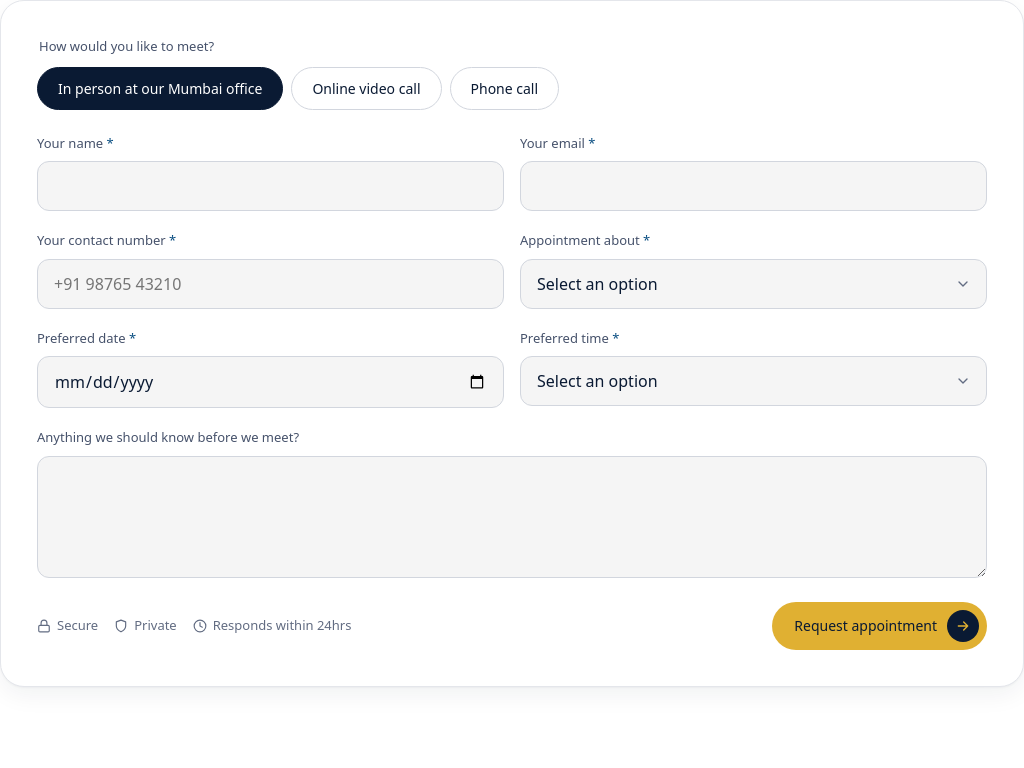
AppointmentForm › lists every required field that is missing and focuses the first
This screenshot has width=1024, height=768.
Click the button "Request appointment Request appointment" at (880, 626), box x1=772 y1=602 x2=987 y2=650
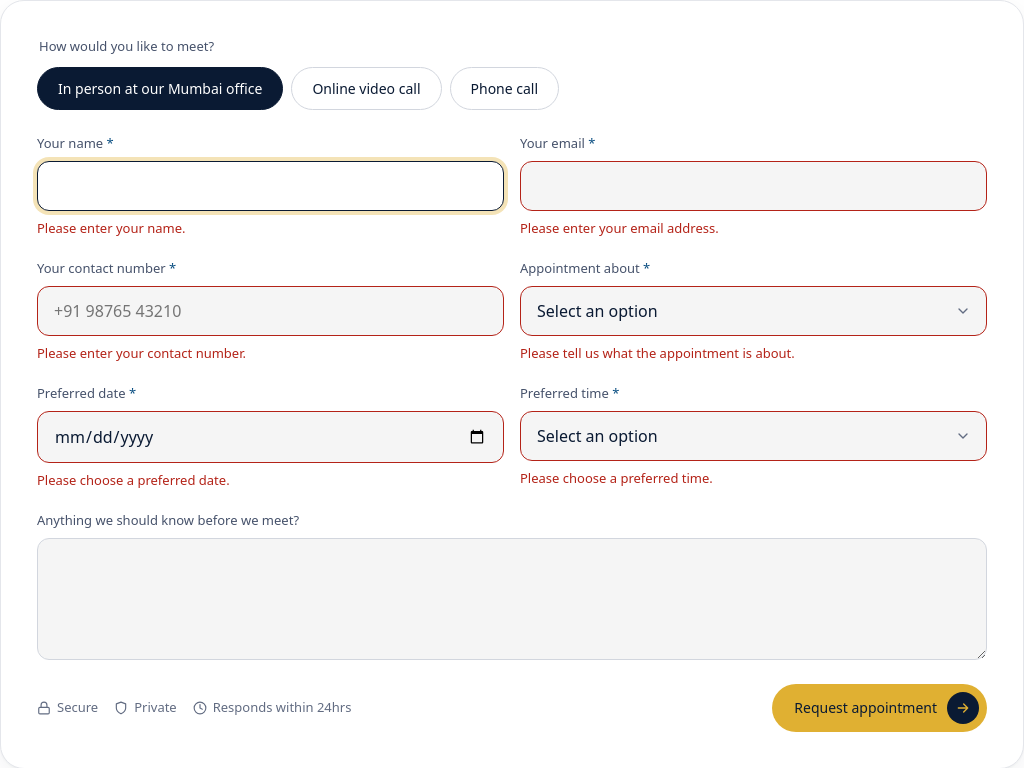
Check: the text "Please enter your name." is shown, box x1=37 y1=219 x2=186 y2=237
Check: the text "Please enter your email address." is shown, box x1=520 y1=219 x2=719 y2=237
Check: the text "Please enter your contact number." is shown, box x1=37 y1=344 x2=246 y2=362
